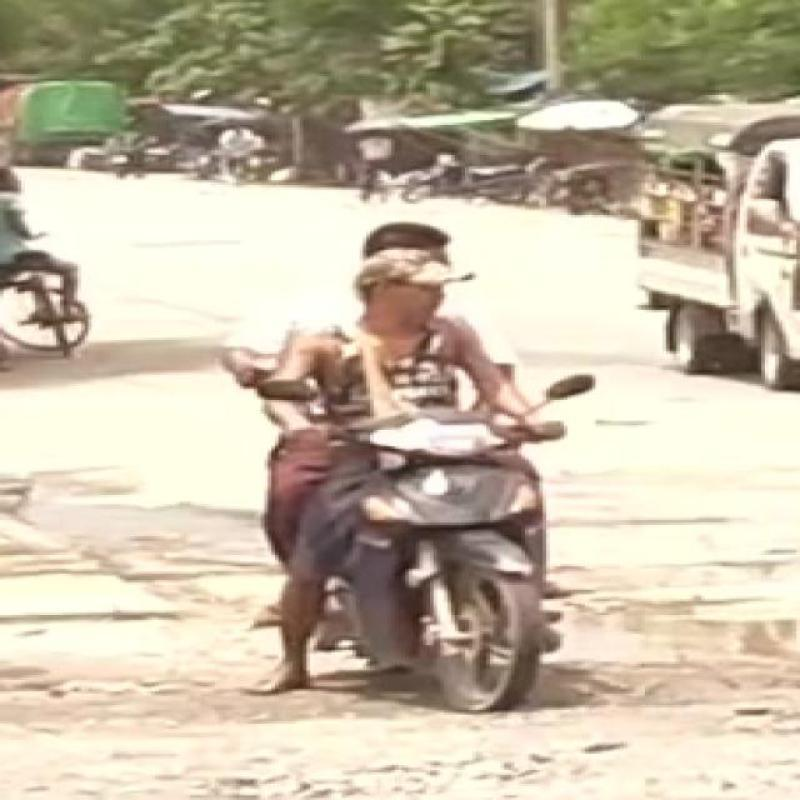nohelmet: (324, 238, 493, 348)
